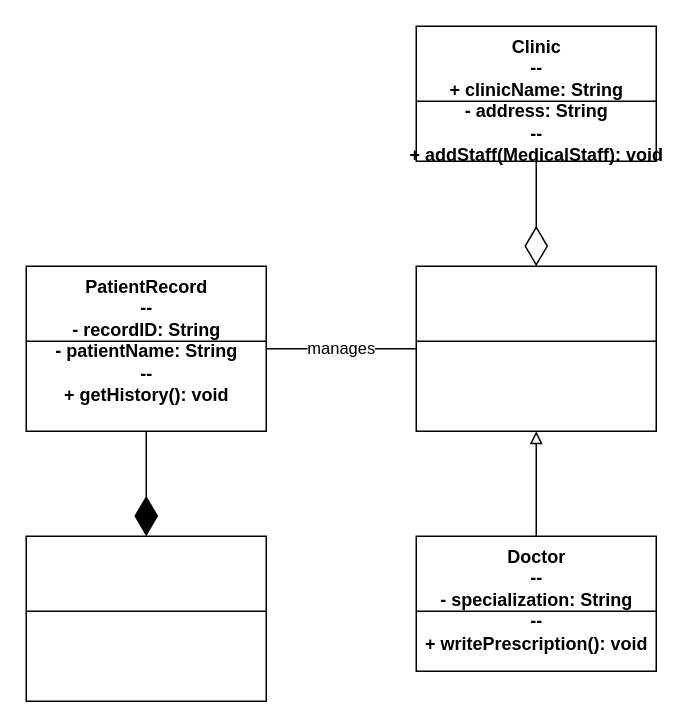
The diagram is 689 pixels wide and 728 high, and some of its shapes have lost their labels. Each missing label, with the centre of its shape:
Diagnosis -- - description: String - date: Date -- + editDiagnosis(): void: point 145,618
MedicalStaff -- # staffID: String # name: String -- + performDuty(): void: point 535,348
